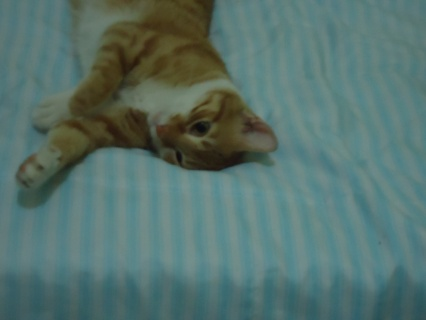Cat: (15, 0, 278, 192)
